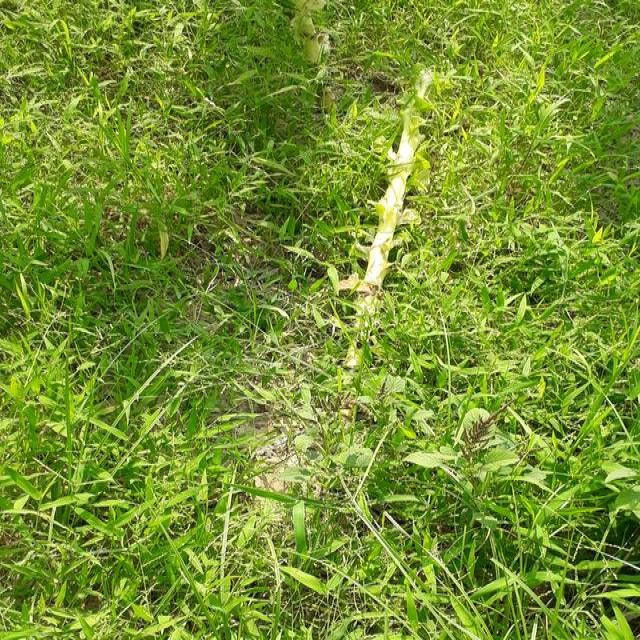weed: (3, 0, 249, 640), (319, 0, 640, 412), (264, 440, 639, 640)
